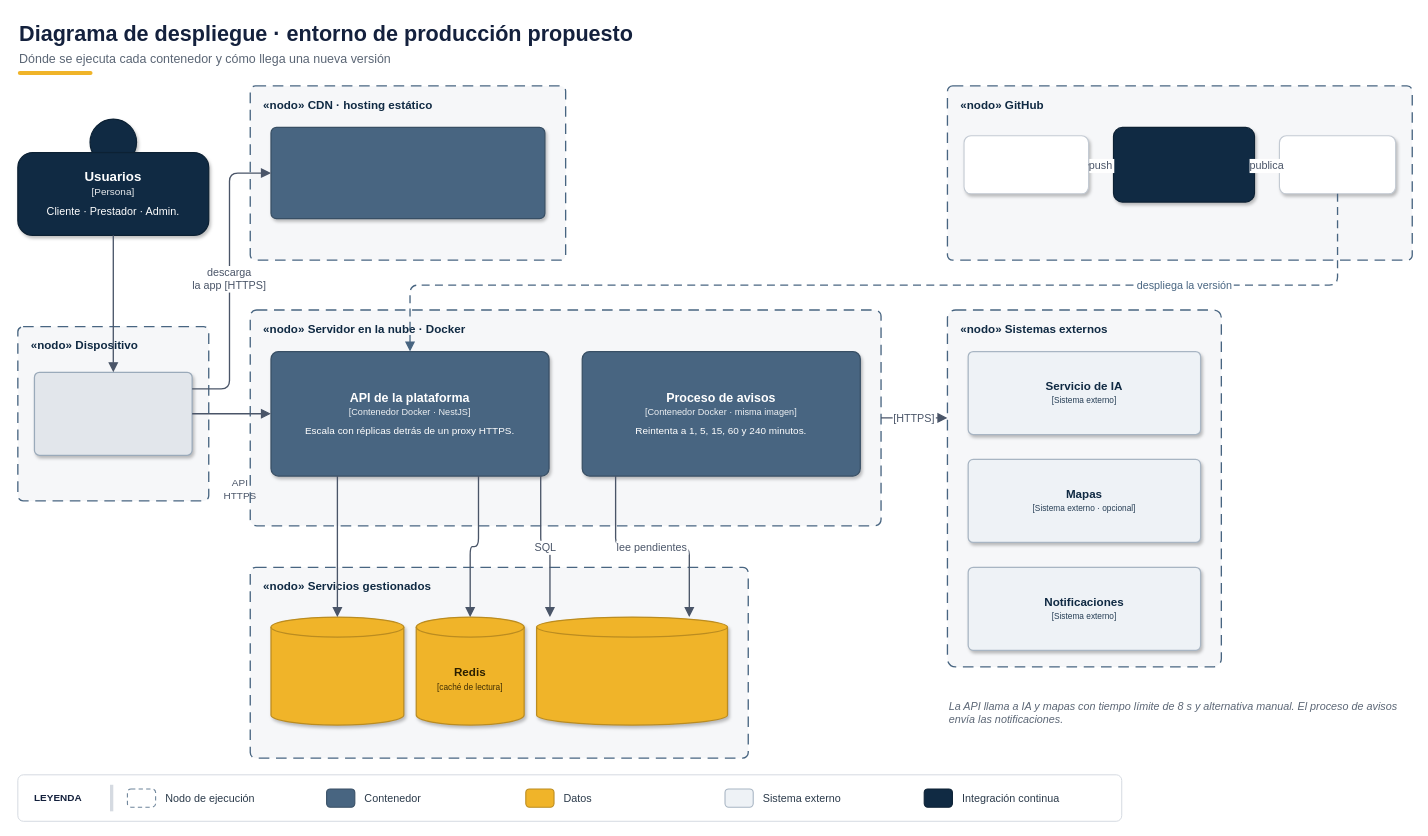
Some shapes in this 1428 by 836 pixel diagram are drawn without their labels. The centre of each missing label's shape, as x and y in pixels:
Aplicación web [React + Vite · archivos estáticos]: point (408, 174)
GitHub Actions pruebas · build imagen Docker: point (1184, 165)
Navegador web [celular o computadora]: point (113, 414)
Objetos [bucket privado: fotos y documentos]: point (338, 672)
PostgreSQL [fuente de verdad: datos, auditoría, revisión y avisos]: point (632, 672)
Registro de imágenes: point (1338, 165)
Repositorio: point (1027, 165)
